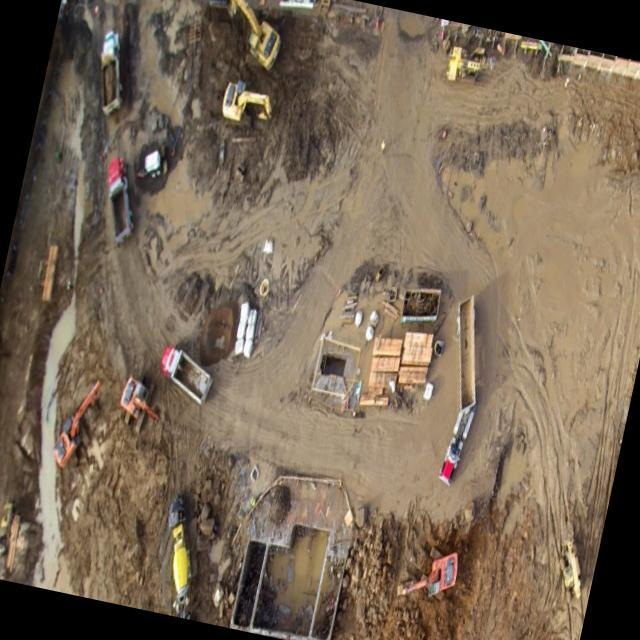excavator: (228, 0, 281, 72), (223, 79, 273, 121)
